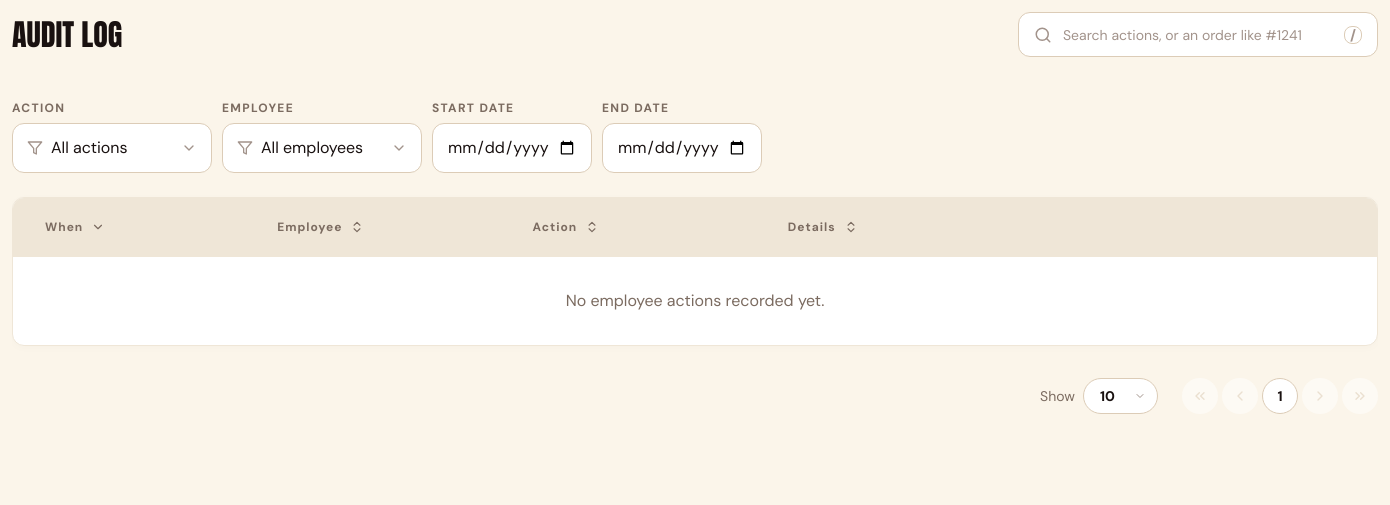
Test case: Audit log page › asks the server for a category when one is picked
Click the button named "action all actions" at (112, 148), box [12,123,212,173]
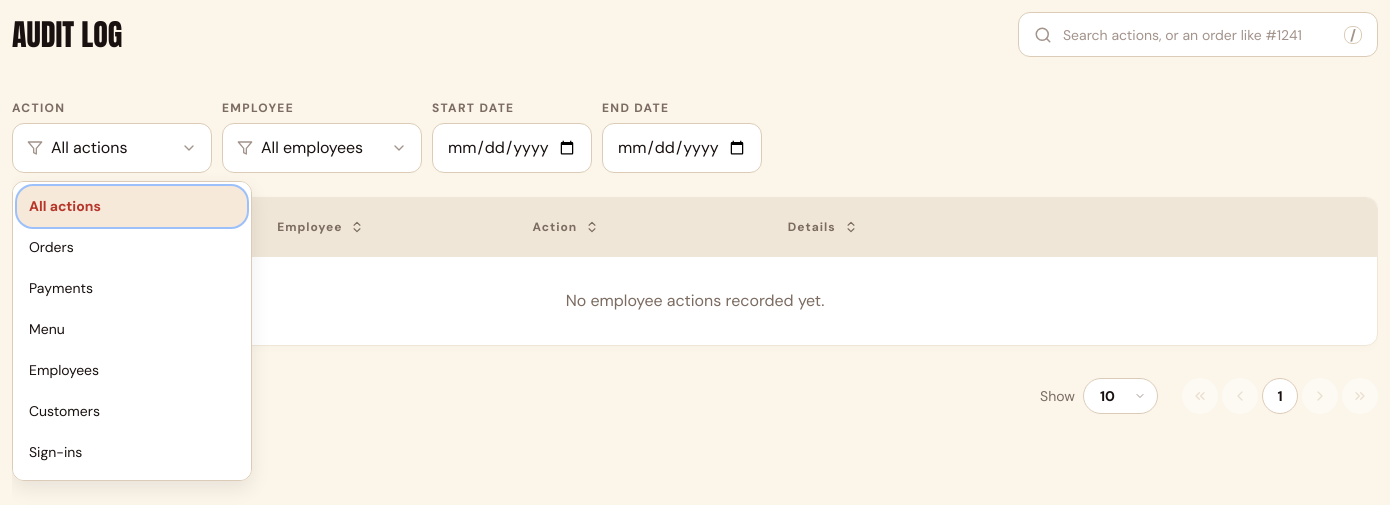
Click the option "Menu" at (132, 330), box [17,309,247,350]
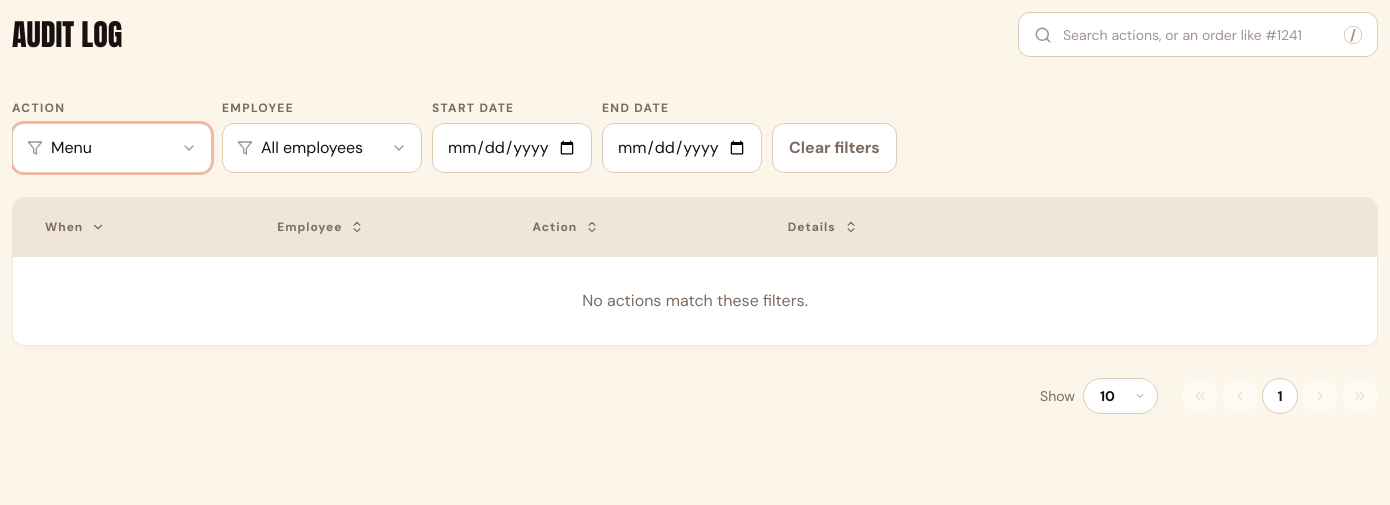
Now the text "No actions match these filters." is shown, box [582,290,808,311]
